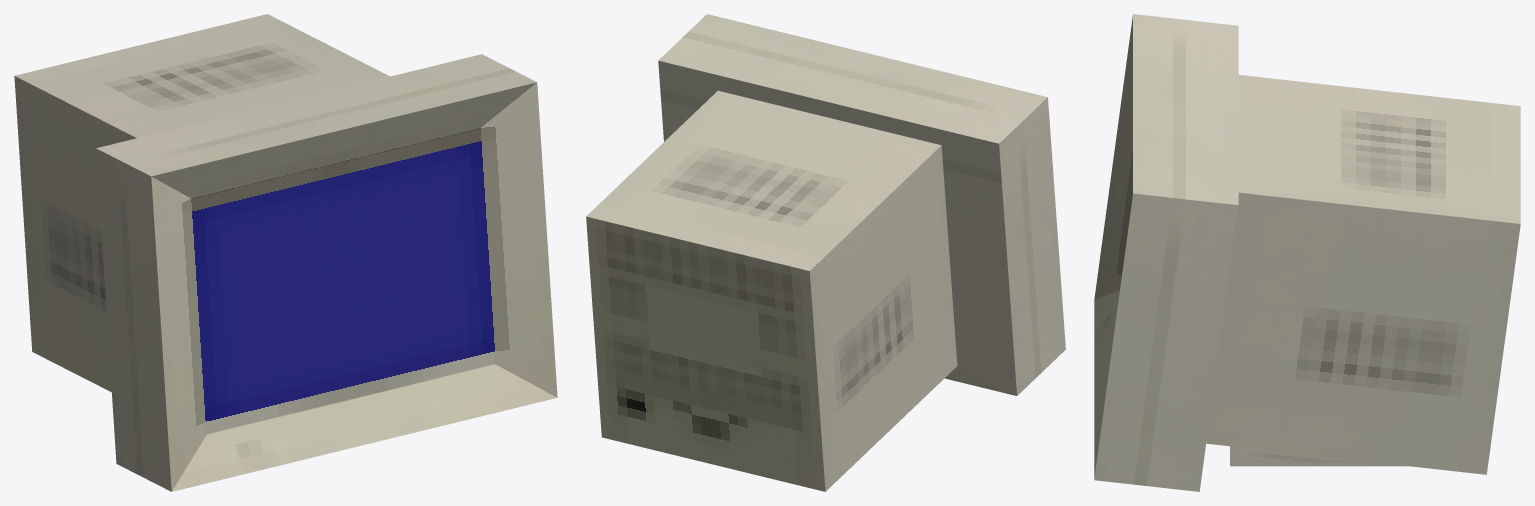
File: pc_monitor_1.glb
3 views of the same model, side by side, from view 1: azimuth 30°, elevation 25°; view 2: azimuth 150°, elevation 25°; view 3: azimuth 270°, elevation 25° (orthographic). The views are drawn at different scales.
Visible parts, largest first — view 1: computer 3; view 2: computer 3; view 3: computer 3.
Boxes of the visible parts, x1,y1,x2,y2 form: computer 3: [14, 14, 557, 491]; computer 3: [586, 14, 1065, 491]; computer 3: [1094, 14, 1520, 491].
Size of the model in its own units: 2 by 1.65 by 2.01.
Materials: 1 (1 with a texture image).
